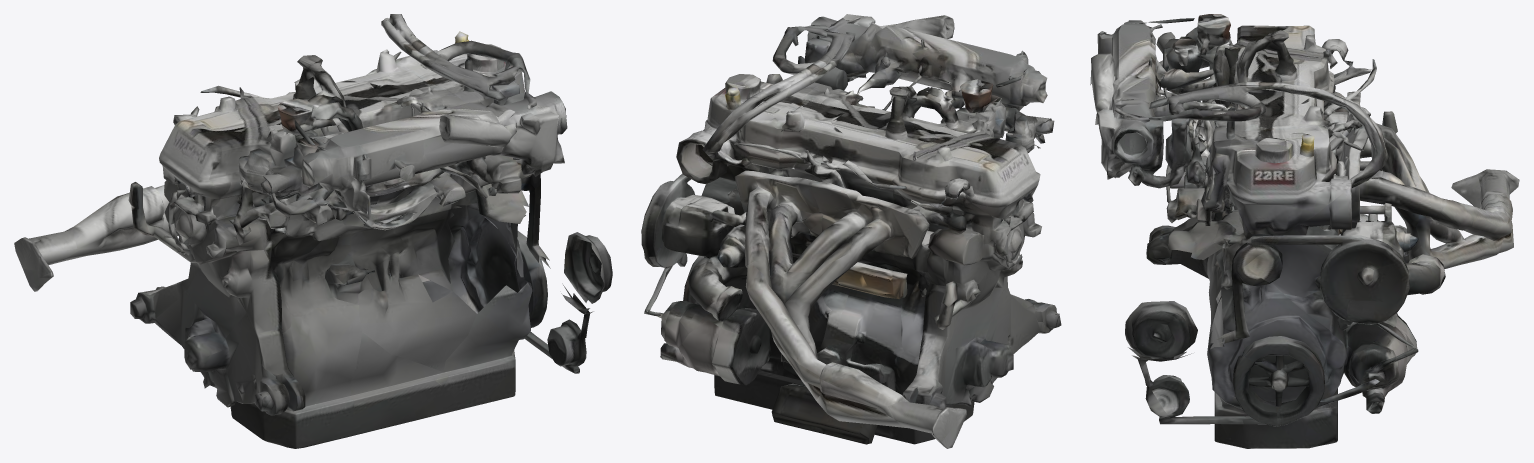
The model's file is engine_toyota_22r.glb.
The picture shows the model from 3 angles, left to right: view 1: azimuth 30°, elevation 25°; view 2: azimuth 150°, elevation 25°; view 3: azimuth 270°, elevation 25°; orthographic projection. The views are drawn at different scales.
Visible parts, largest first — view 1: engine_toyota_22r; view 2: engine_toyota_22r; view 3: engine_toyota_22r.
Part boxes in pixels (x1,y1,x2,y2): engine_toyota_22r: [14, 14, 612, 448]; engine_toyota_22r: [641, 14, 1061, 448]; engine_toyota_22r: [1090, 14, 1519, 448].
Bounding box in the file's own units: 0.62 × 0.533 × 0.6272.
1 material, 1 textured.
